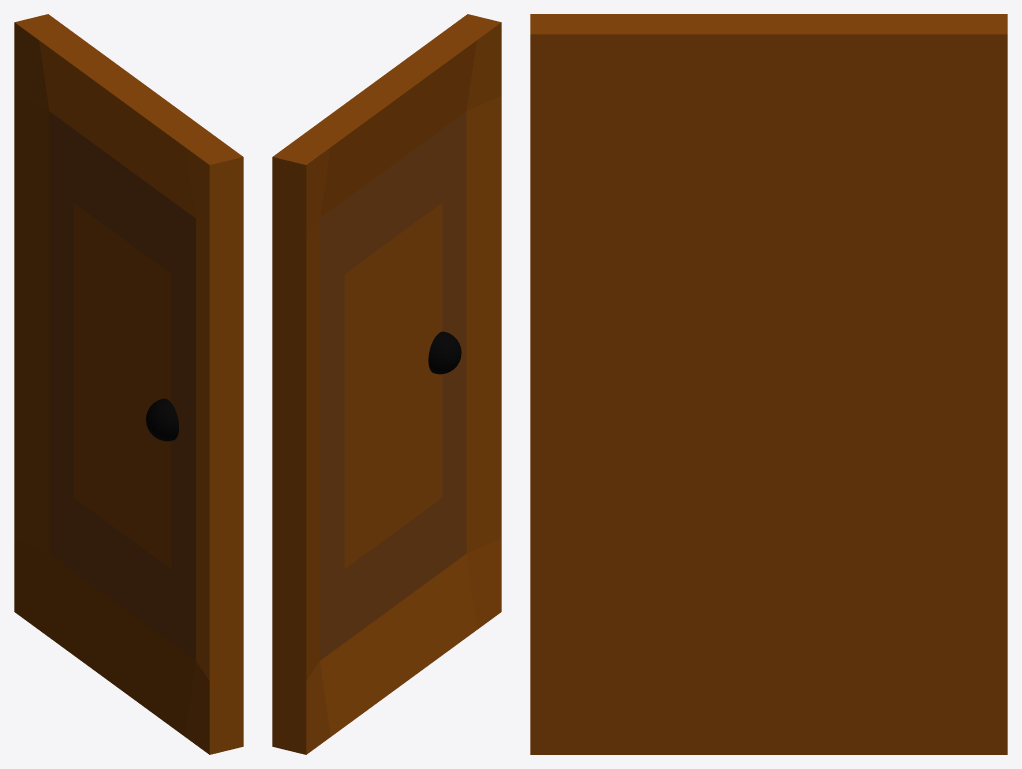
File: Door.fbx
The picture shows the model from 3 angles, left to right: view 1: azimuth 30°, elevation 25°; view 2: azimuth 150°, elevation 25°; view 3: azimuth 270°, elevation 25°; orthographic projection. The views are drawn at different scales.
Parts seen in each view (by area): view 1: Door; view 2: Door; view 3: Door.
Boxes of the visible parts, <box> form: Door: <box>14,14,243,754</box>; Door: <box>272,14,501,754</box>; Door: <box>530,14,1007,754</box>.
Bounding box in the file's own units: 76.08 × 1000 × 600.
